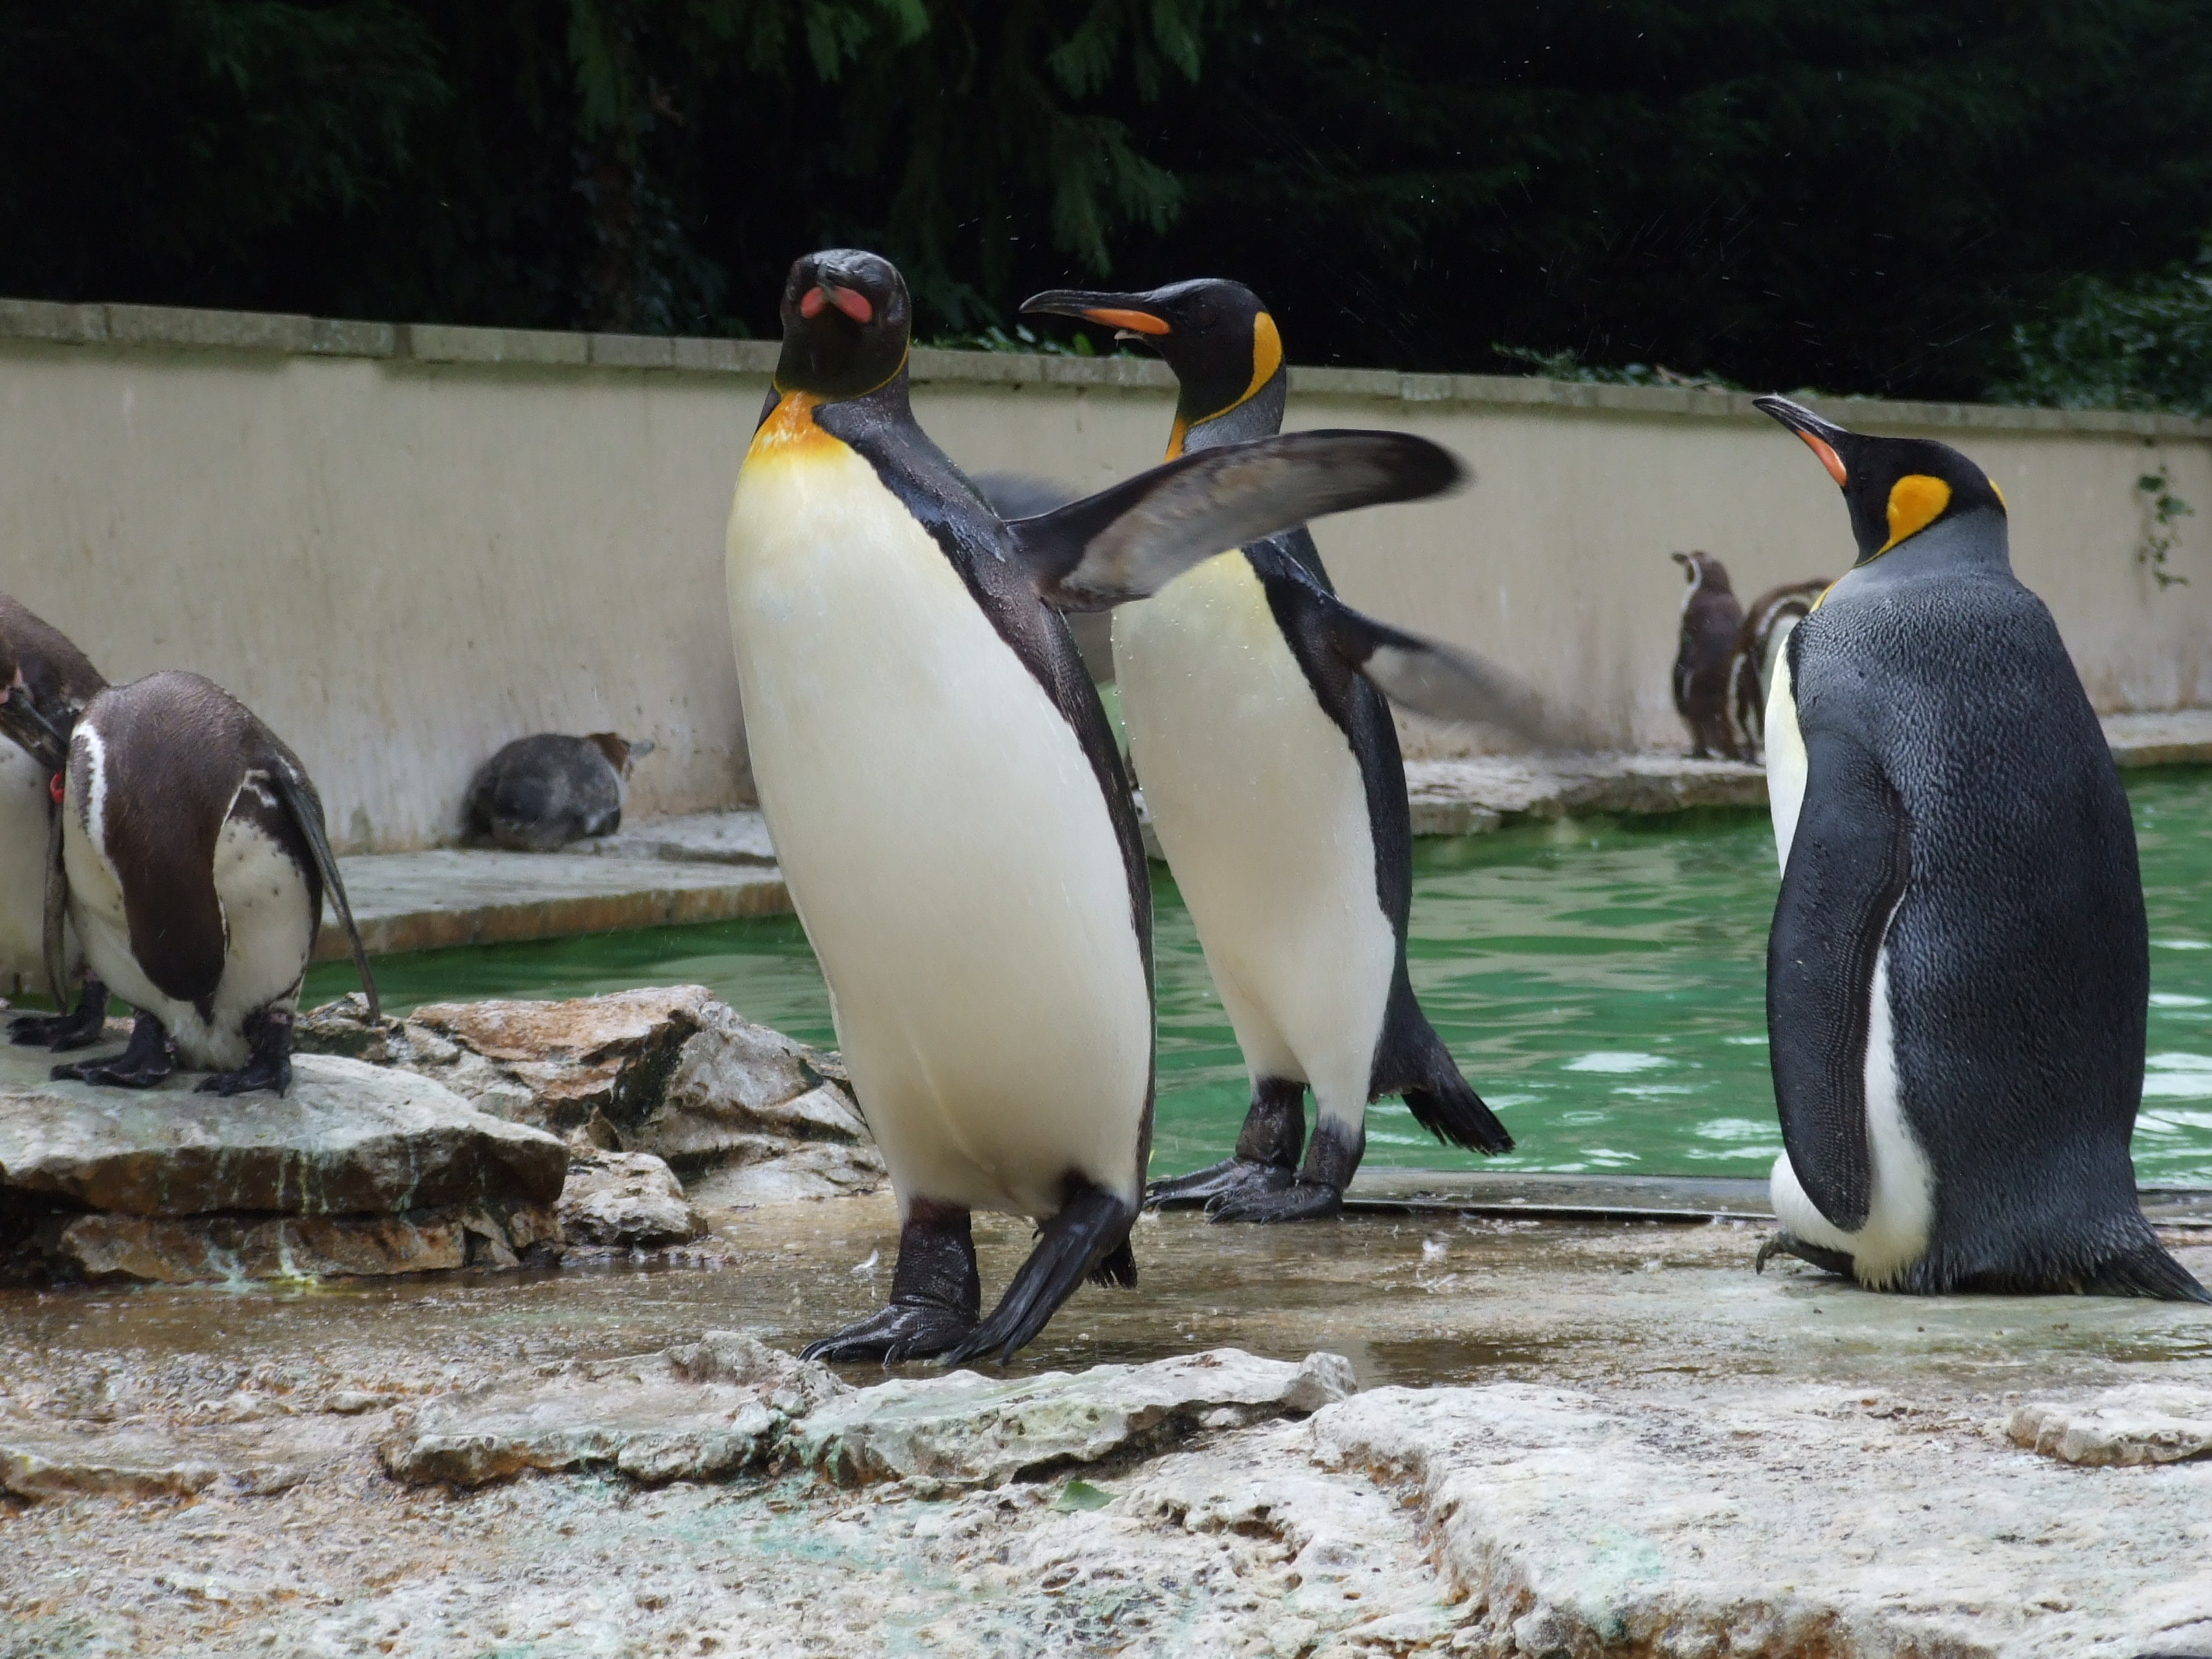penguin: (641, 228, 1477, 1347), (1752, 383, 2212, 1302)
